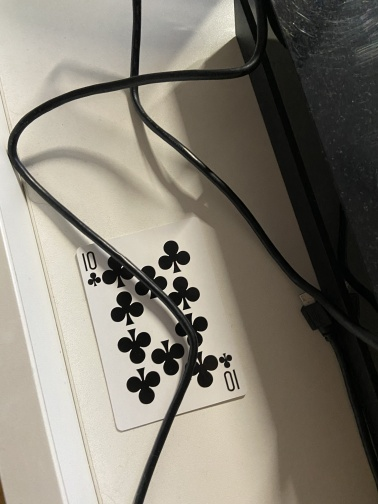ten: (74, 216, 249, 433)
